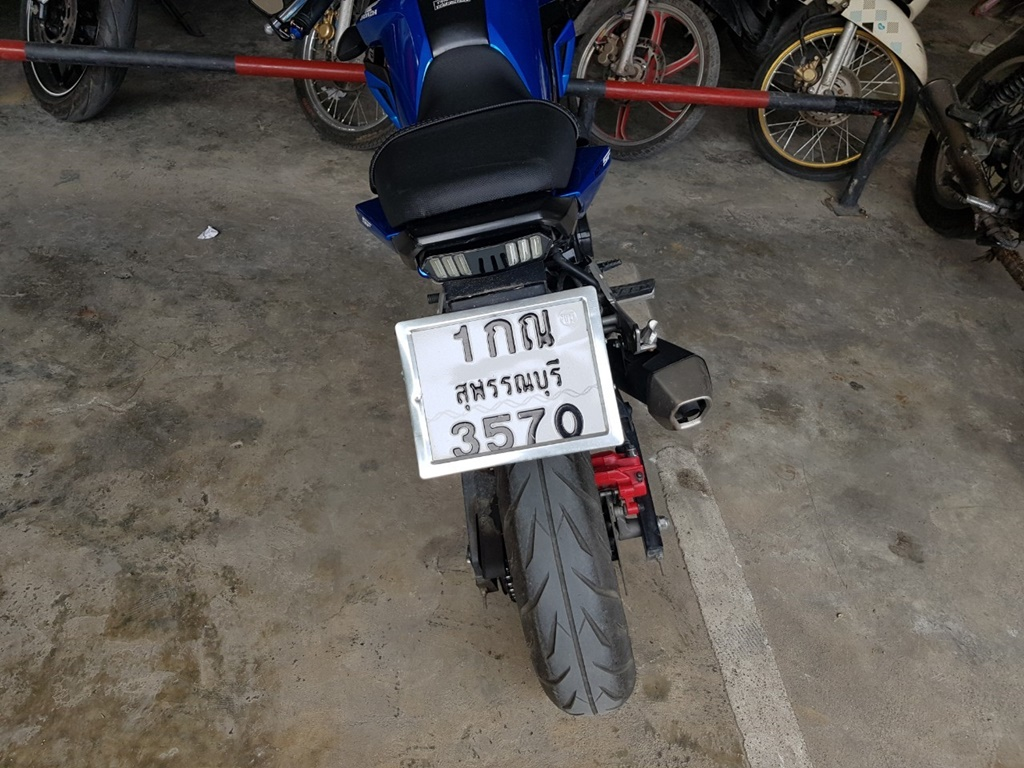zero: (548, 396, 588, 446)
